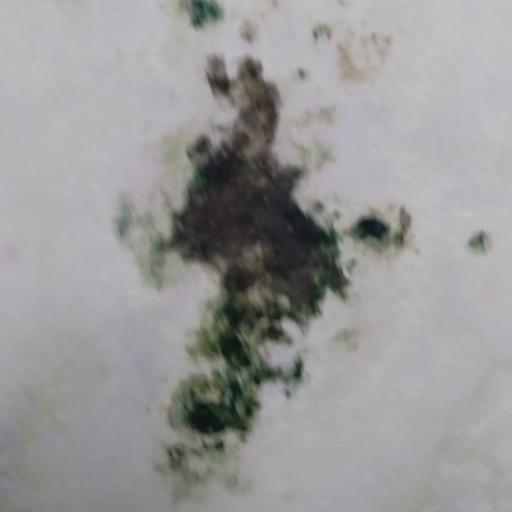algae: (117, 56, 411, 500)
